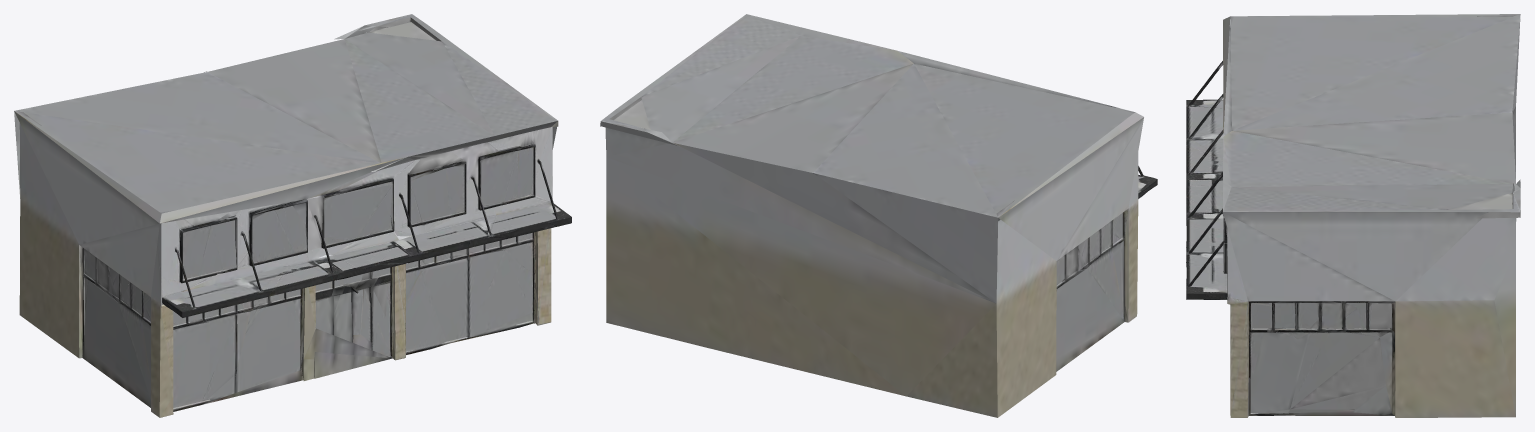
File: supermarket.glb
3 renders of one model, left to right at view 1: azimuth 30°, elevation 25°; view 2: azimuth 150°, elevation 25°; view 3: azimuth 270°, elevation 25°, orthographic. The views are drawn at different scales.
Parts seen in each view (by area): view 1: Mesh_0; view 2: Mesh_0; view 3: Mesh_0.
Part boxes in pixels (x1=…): Mesh_0: x1=14, y1=14, x2=571, y2=417; Mesh_0: x1=600, y1=14, x2=1157, y2=417; Mesh_0: x1=1186, y1=14, x2=1520, y2=417.
Bounding box in the file's own units: 11.24 × 5.51 × 8.02.
Materials: 1 (1 with a texture image).
